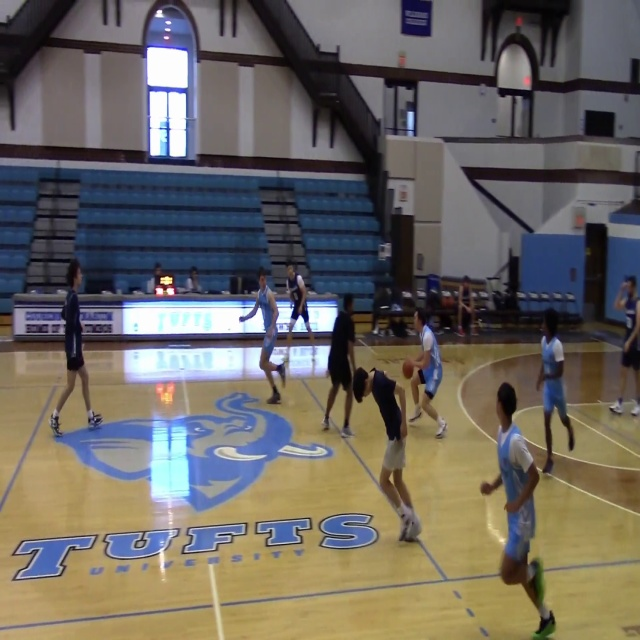Basketball: (402, 359, 414, 379)
